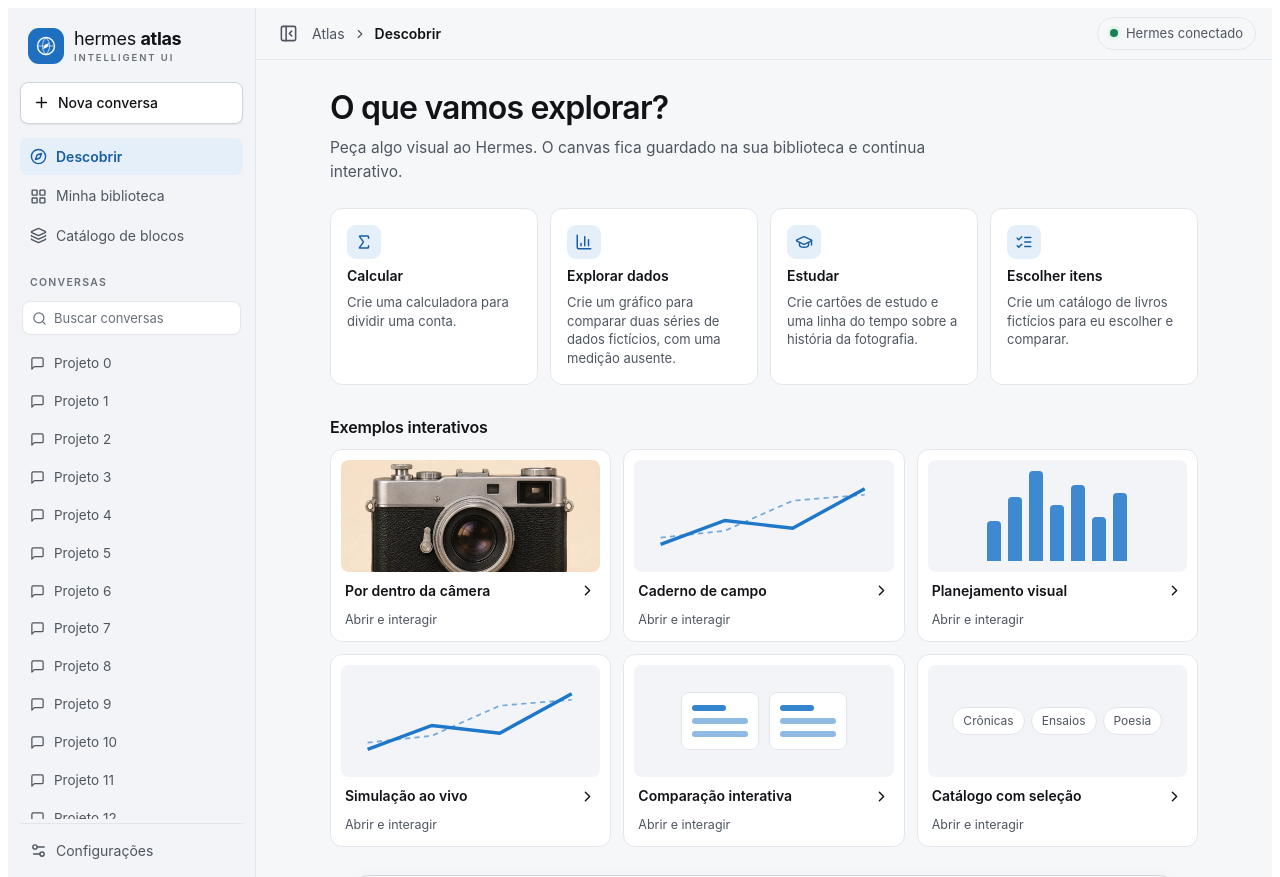
Test: queries the server for titles beyond the first page and ends pagination on the last match
Type "lagos" into the field labelled "Buscar conversas".
click(142, 318); type("lagos")  # box [54,302,231,334]
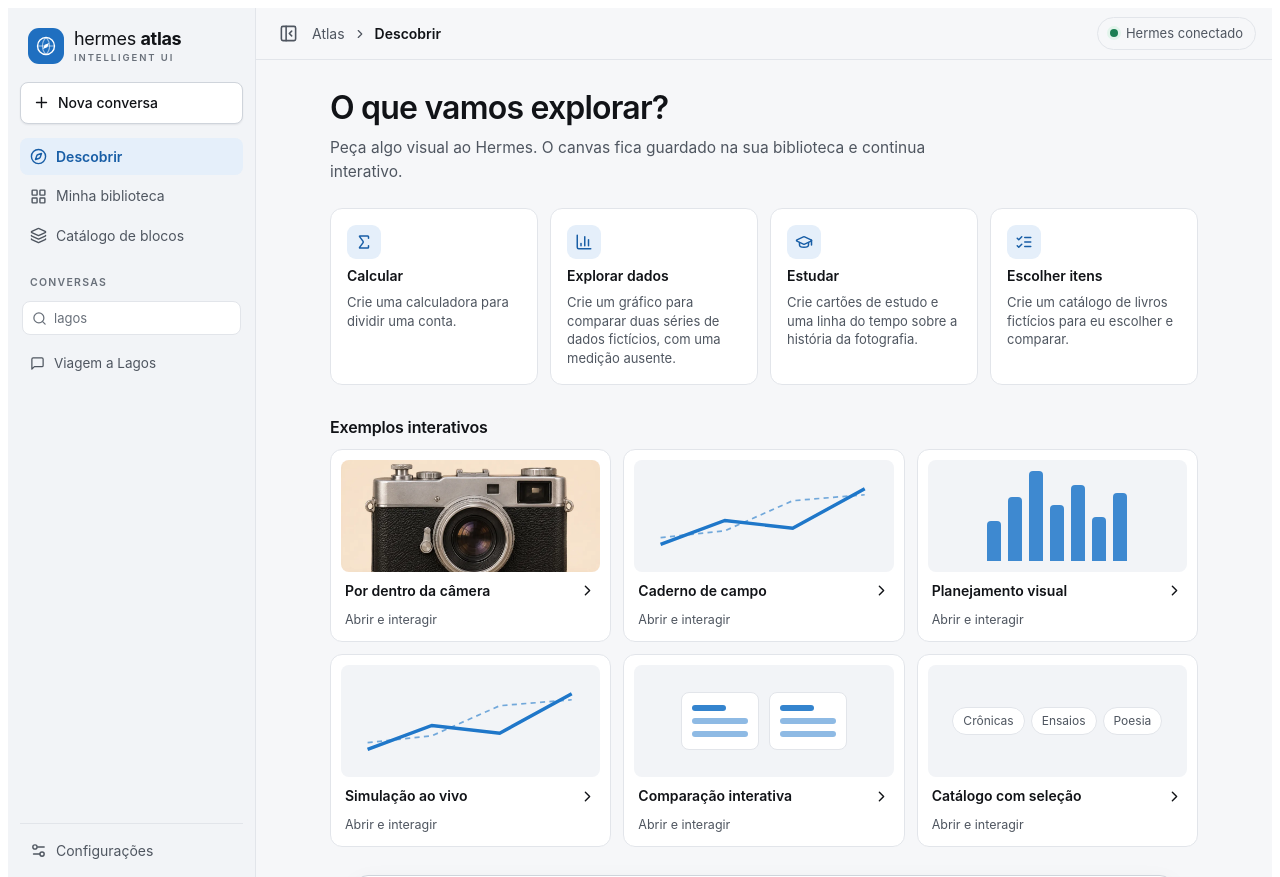
Check: the button "Viagem a Lagos" is shown, box [20,345,243,382]
